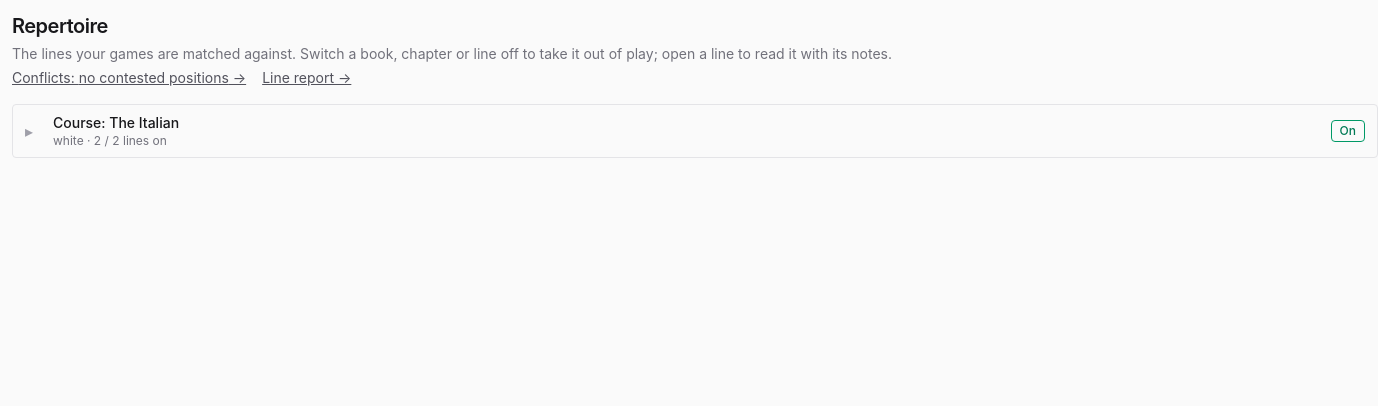
Test case: Repertoire page › deletes a line after a confirm that states the cost, on the server's word
Click the button "▸ Course: The Italian white · 2 / 2 lines on On" at (116, 122), box [13,105,1377,157]
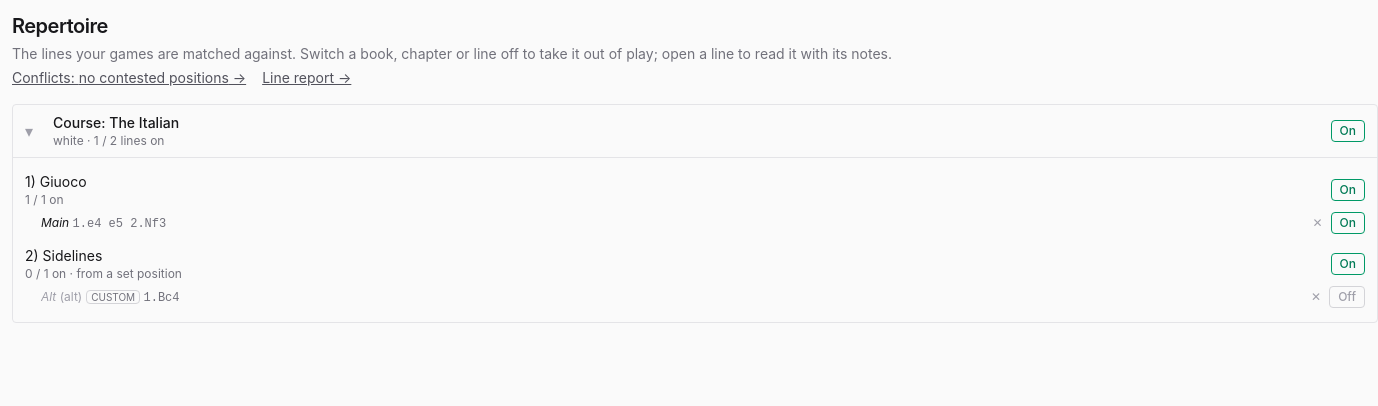
Check: the text "1) Giuoco" is shown, box [25,173,87,190]
Click the button named "Delete Main" at (1318, 223), box [1312,215,1323,231]
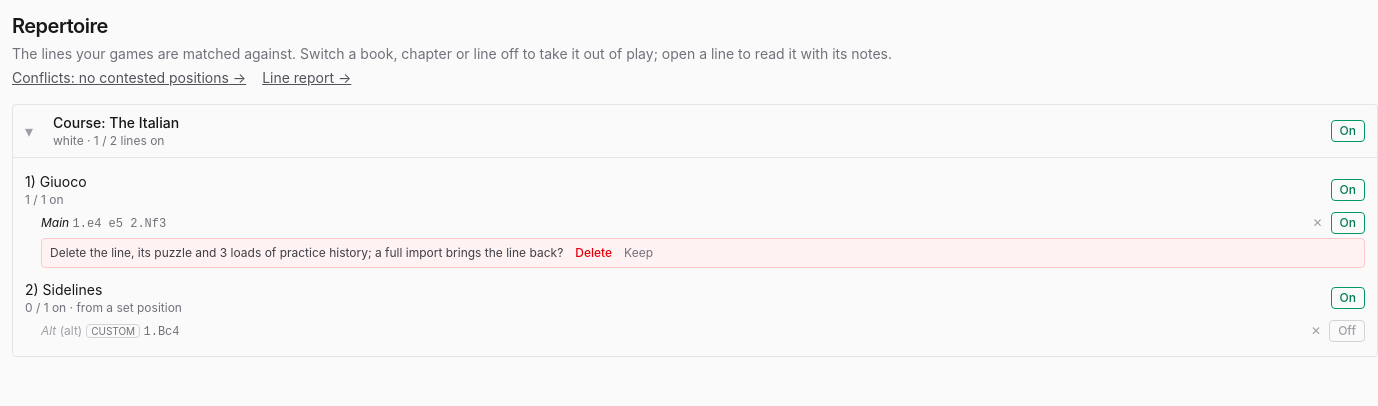
Check: the element named "Delete Main?" shows "Delete the line, its puzzle and 3 loads of practice history; a full import brings the line back?", box [41,238,1365,268]
Click the button "Keep" at (639, 253), box [624,245,653,261]
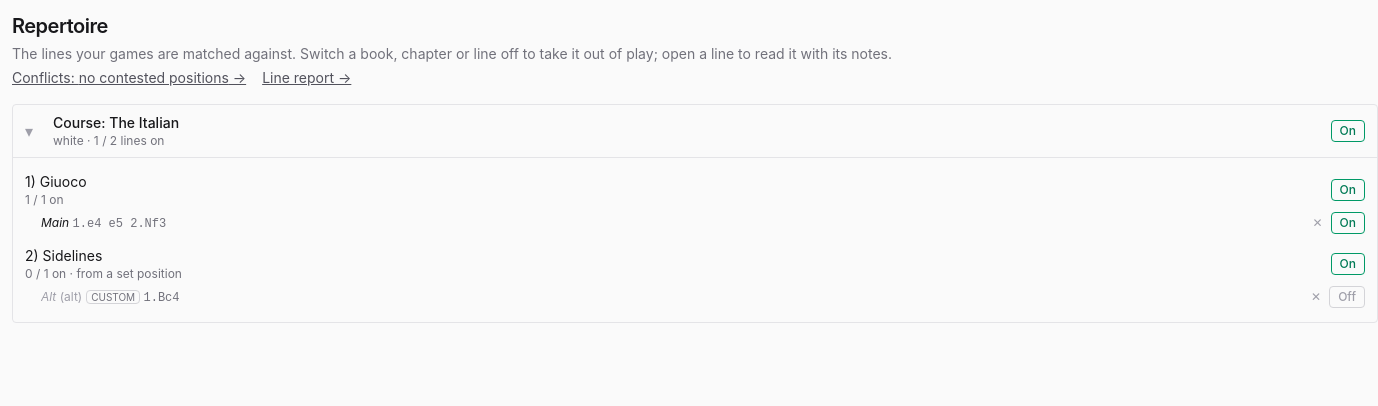
Check: the text "1.e4 e5 2.Nf3" is shown, box [73,216,166,230]
Click the button named "Delete Alt" at (1316, 297), box [1311,289,1321,305]
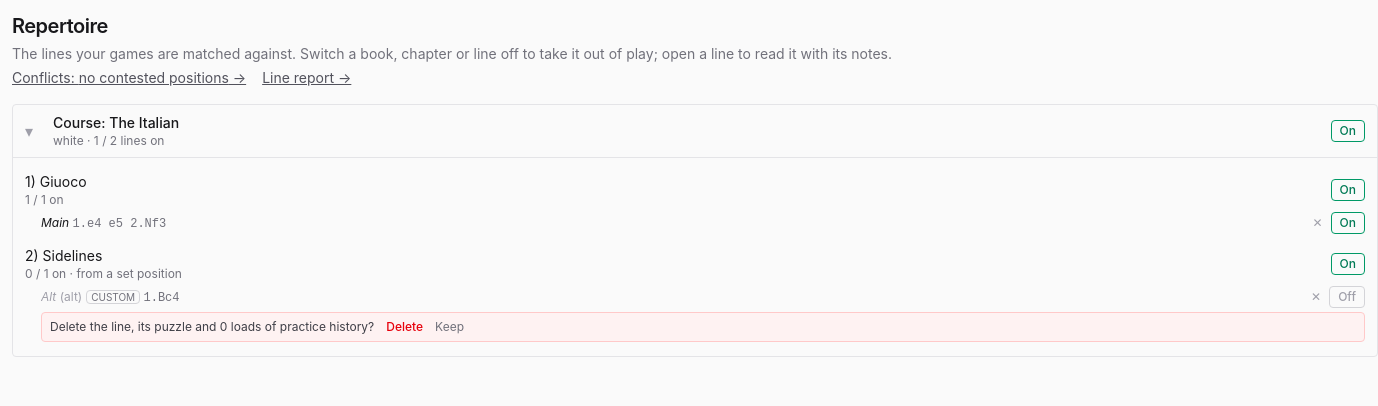
Check: the element named "Delete Alt?" shows "0 loads of practice history?", box [41,312,1365,342]
Click the button "Delete" at (405, 327), box [386,319,423,335]
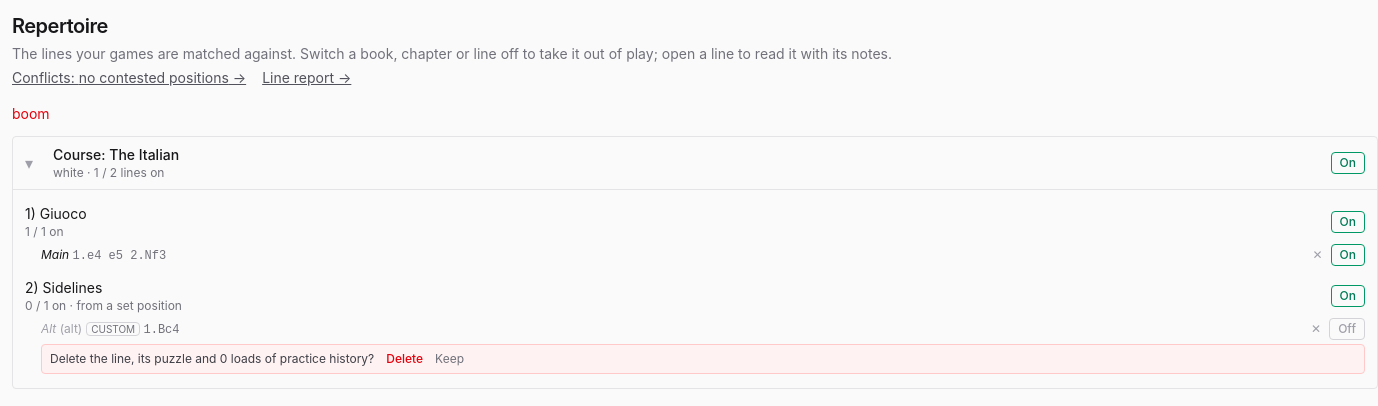
Check: the button "Alt (alt)custom 1.Bc4" is shown, box [41,320,1303,338]
Check: the text "boom" is shown, box [12,105,50,122]
Click the button "Delete" at (405, 359), box [386,351,423,367]
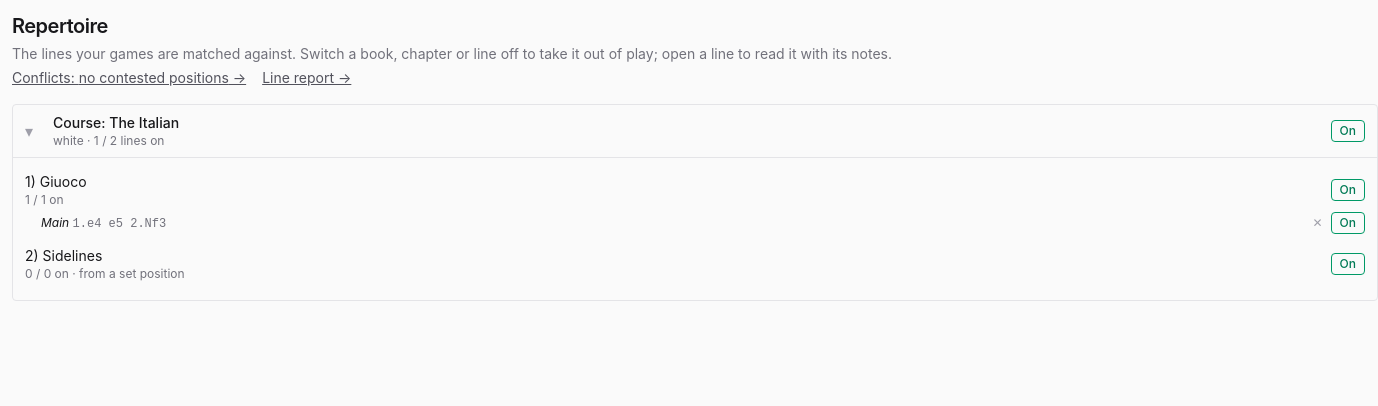
Check: the button "(alt)" is gone
